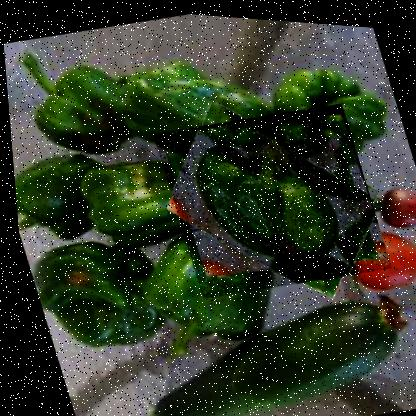capsicum_rotten: (148, 85, 391, 306)
